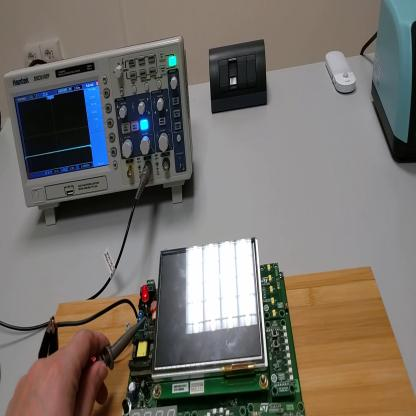hand: (9, 327, 114, 416)
low voltage board: (57, 238, 307, 416)
oscilloscope: (4, 37, 195, 228)
oscilloscope probe tip: (96, 315, 148, 371)
welder station: (372, 3, 415, 165)
working area: (58, 268, 415, 414)
